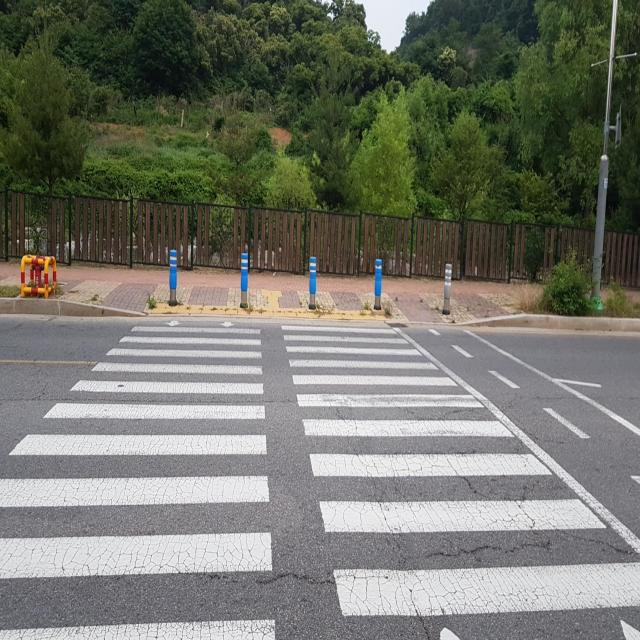횡단보도: (0, 312, 640, 640)
